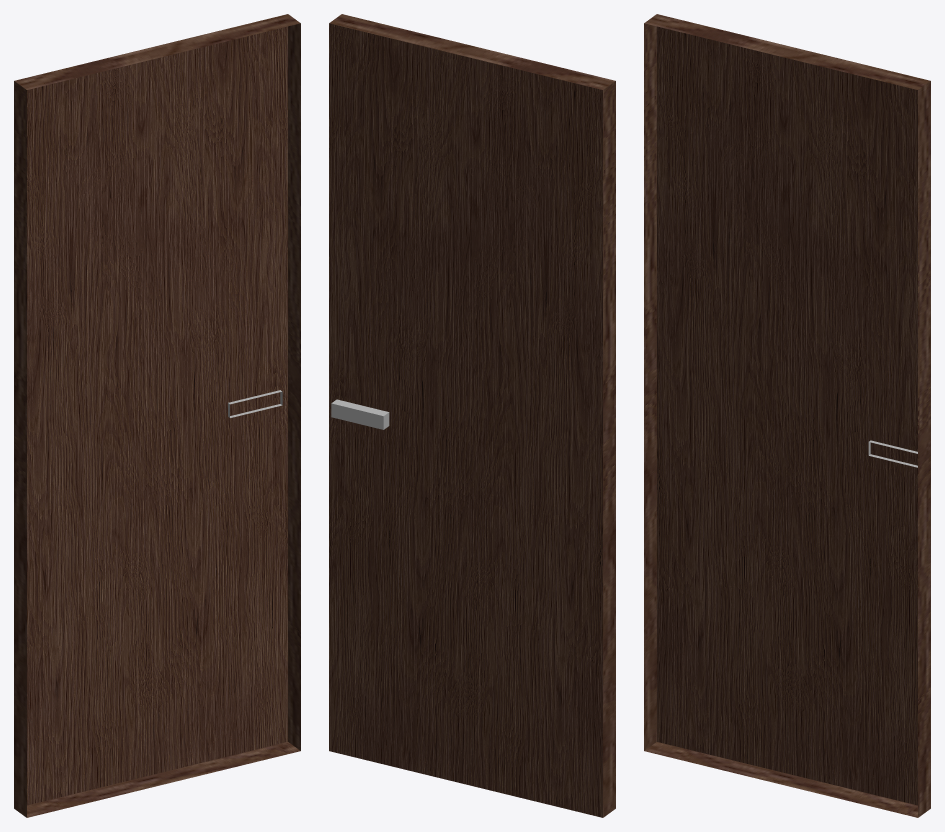
Rendered from door.fbx.
3 renders of one model, left to right at view 1: azimuth 30°, elevation 25°; view 2: azimuth 150°, elevation 25°; view 3: azimuth 330°, elevation 25°, orthographic.
Visible parts, largest first — view 1: Door; view 2: Door, DoorHandle; view 3: Door.
Boxes of the visible parts, x1,y1,x2,y2 form: Door: [14, 14, 300, 817]; Door: [329, 14, 615, 817]; DoorHandle: [331, 399, 389, 429]; Door: [644, 14, 930, 817].
Bounding box in the file's own units: 1404 × 3564 × 162.
Materials: 2 (2 with a texture image).
